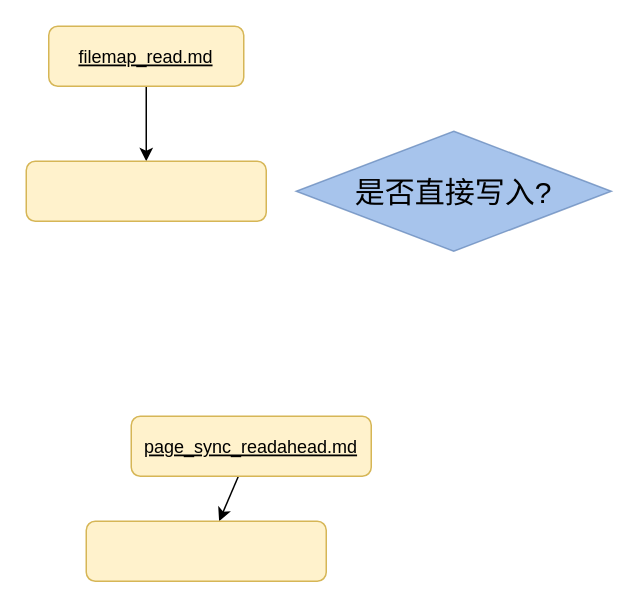
This 638x608 diagram has some shape labels left out. Here are the shapes that lost their labels. From the top down, the centre of each, then its label:
At point (145, 190): "filemap_get_pages.md".
At point (205, 550): "page_cache_sync_ra".
